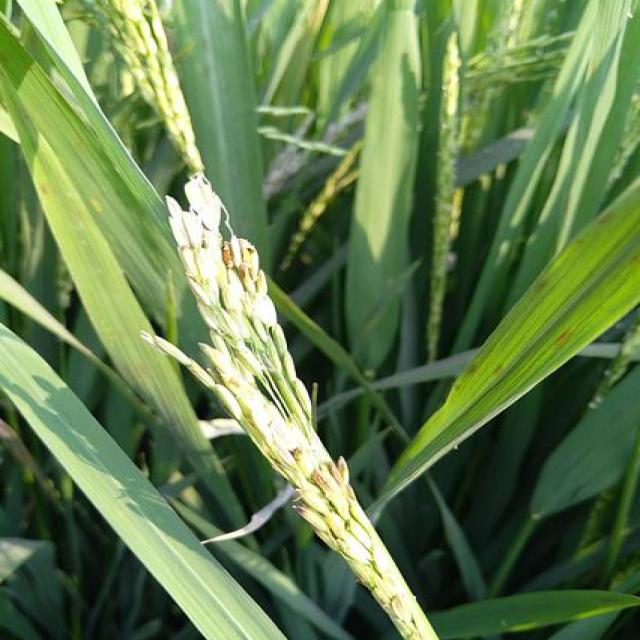Panicle Blight: (314, 459, 359, 522), (291, 505, 338, 551), (224, 235, 260, 290), (216, 365, 255, 401), (392, 595, 421, 640), (288, 442, 305, 468)
